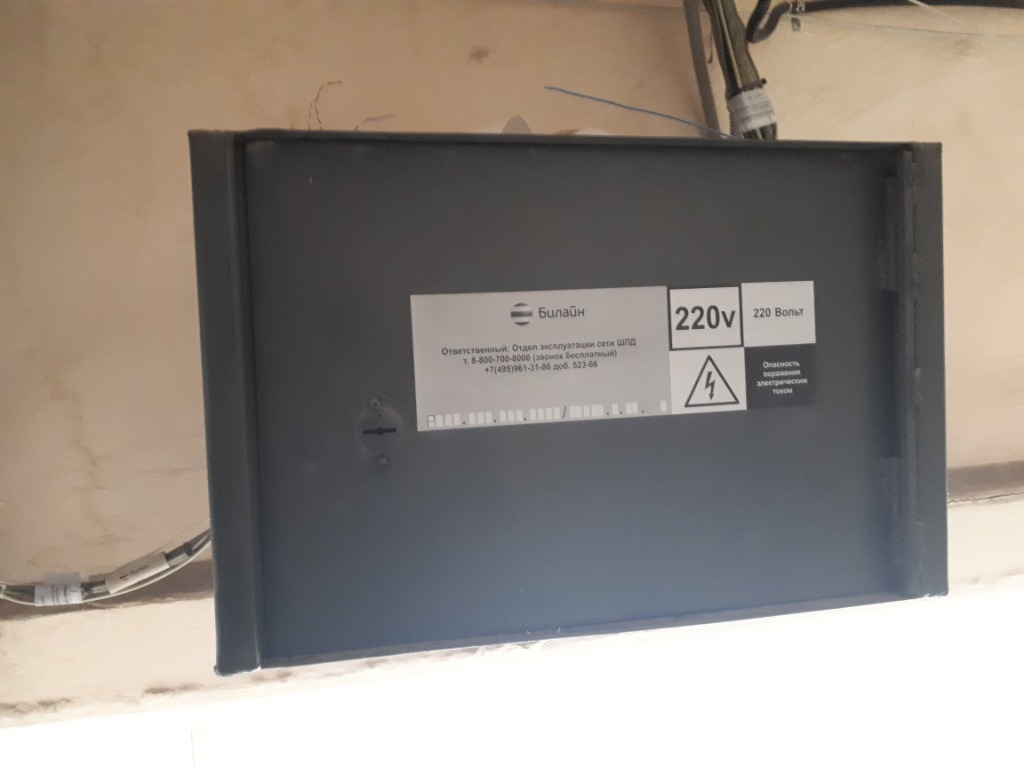e2-6u: (183, 125, 957, 682)
